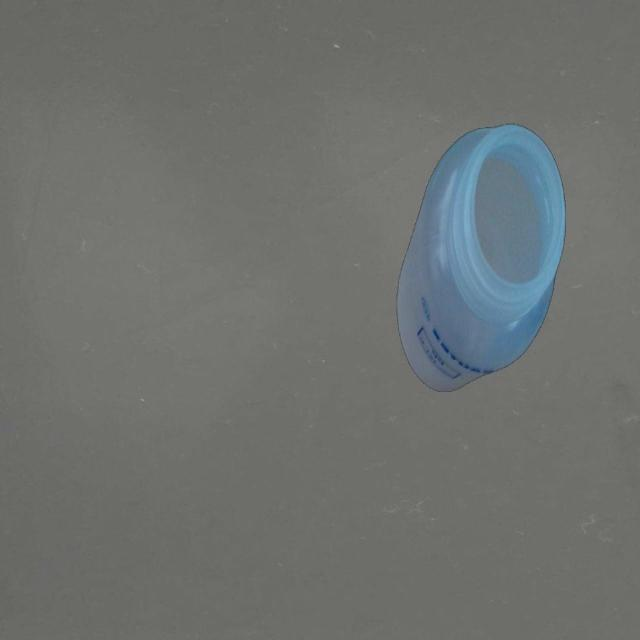bottle: (394, 119, 568, 399)
